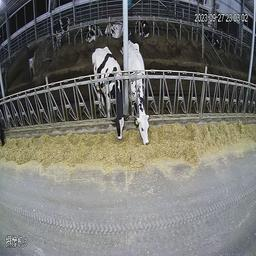cow: (90, 47, 127, 140), (127, 40, 152, 143), (51, 16, 71, 47), (85, 21, 102, 45), (135, 16, 152, 39), (104, 21, 123, 39)
